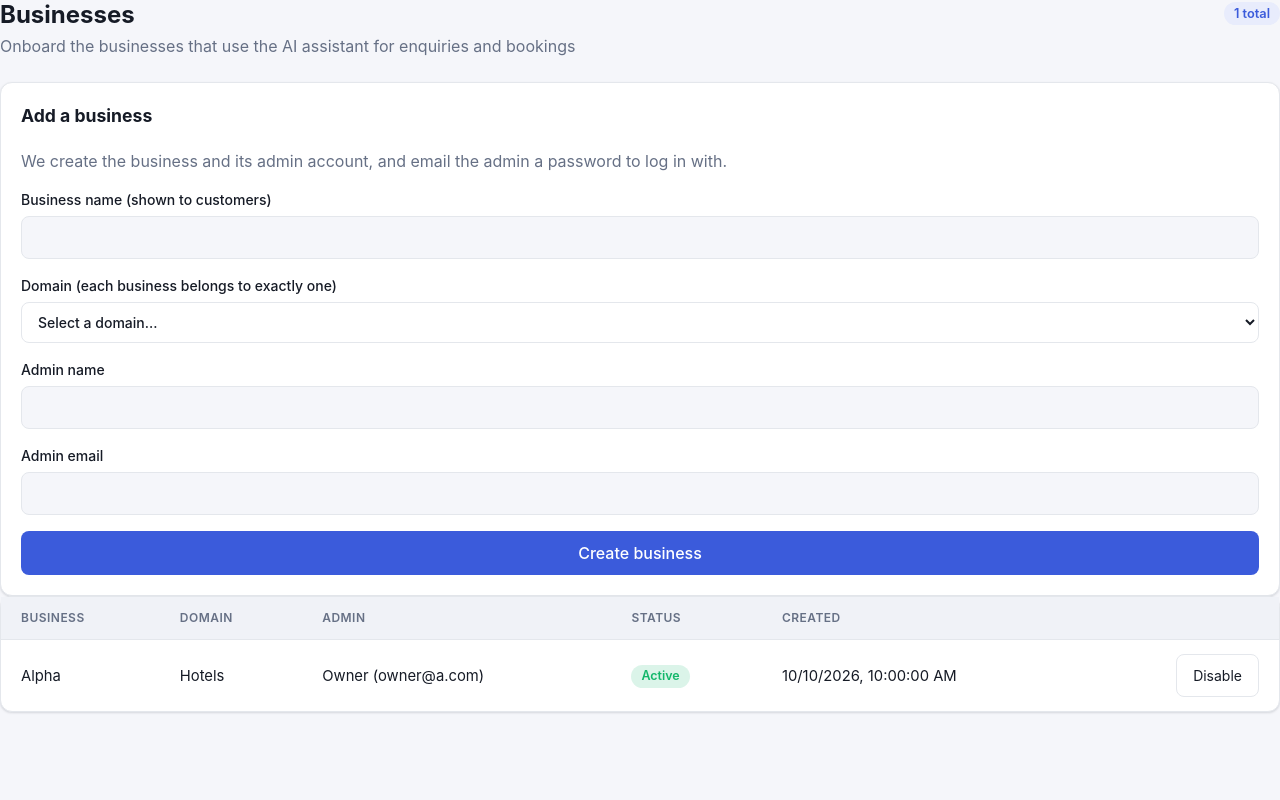
Test: BusinessesPage › creates a business with its admin and refreshes the list
Expected: the text "Alpha" is shown, x1=1 y1=640 x2=160 y2=711
Type "Beta" into the field labelled "Business name (shown to customers)" at (640, 238), box x1=21 y1=216 x2=1259 y2=259
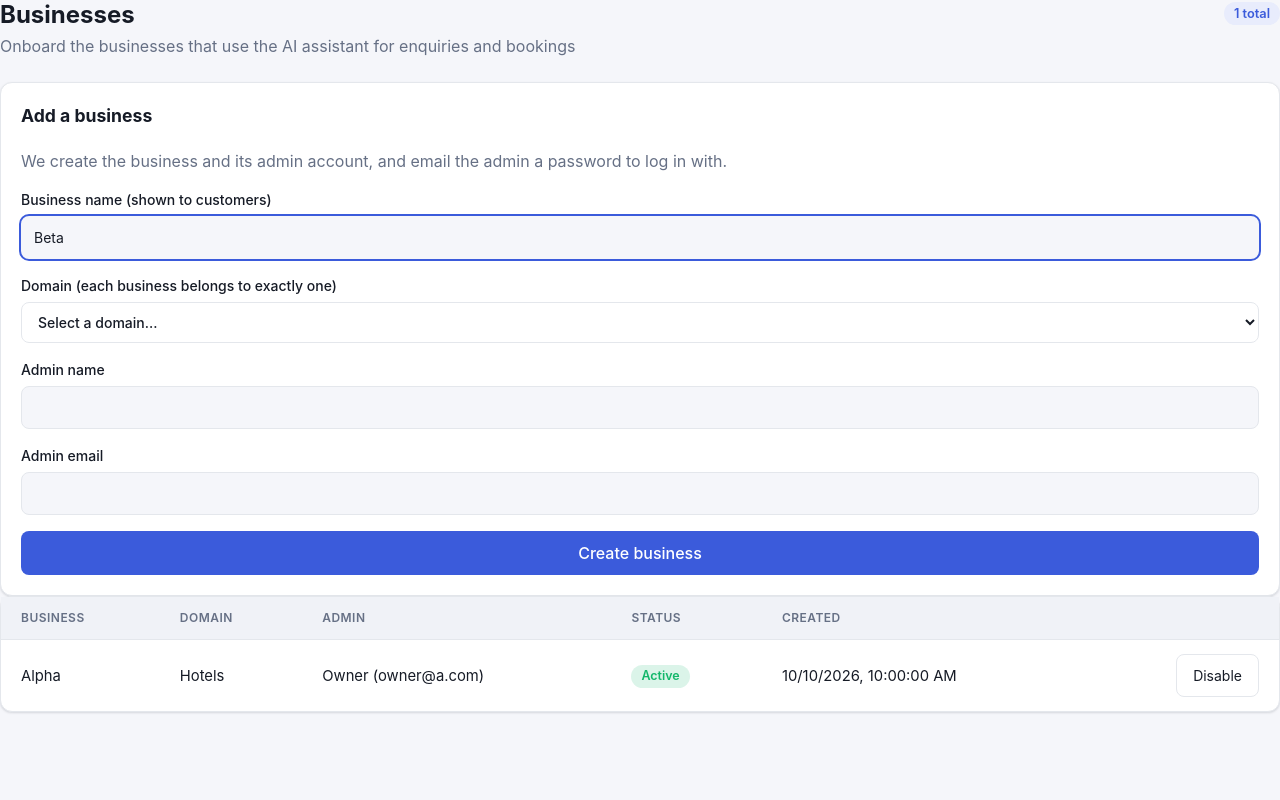
Select "Hotels" in the dropdown labelled "Domain (each business belongs to exactly one)" at (640, 323), box x1=21 y1=302 x2=1259 y2=343
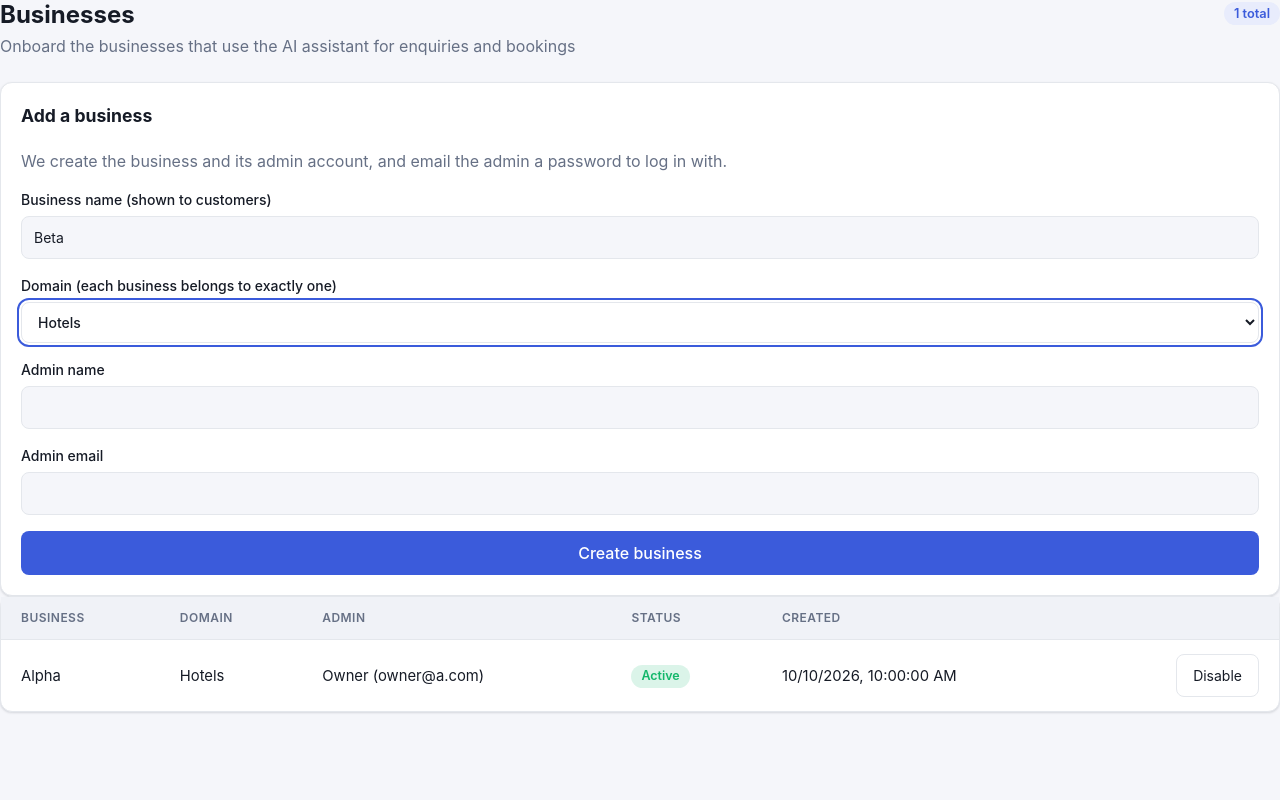
Type "Owner" into the field labelled "Admin name" at (640, 408), box x1=21 y1=386 x2=1259 y2=429
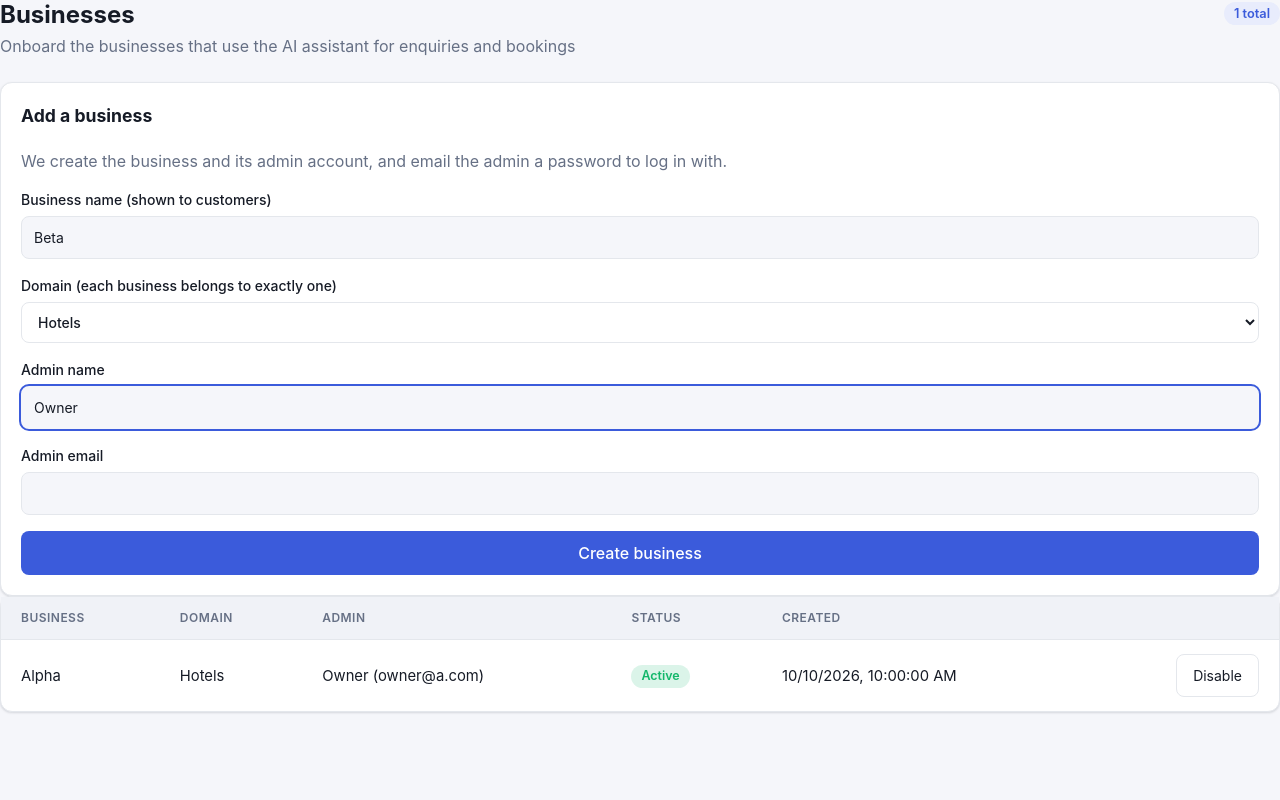
Type "owner@b.com" into the field labelled "Admin email" at (640, 494), box x1=21 y1=472 x2=1259 y2=515
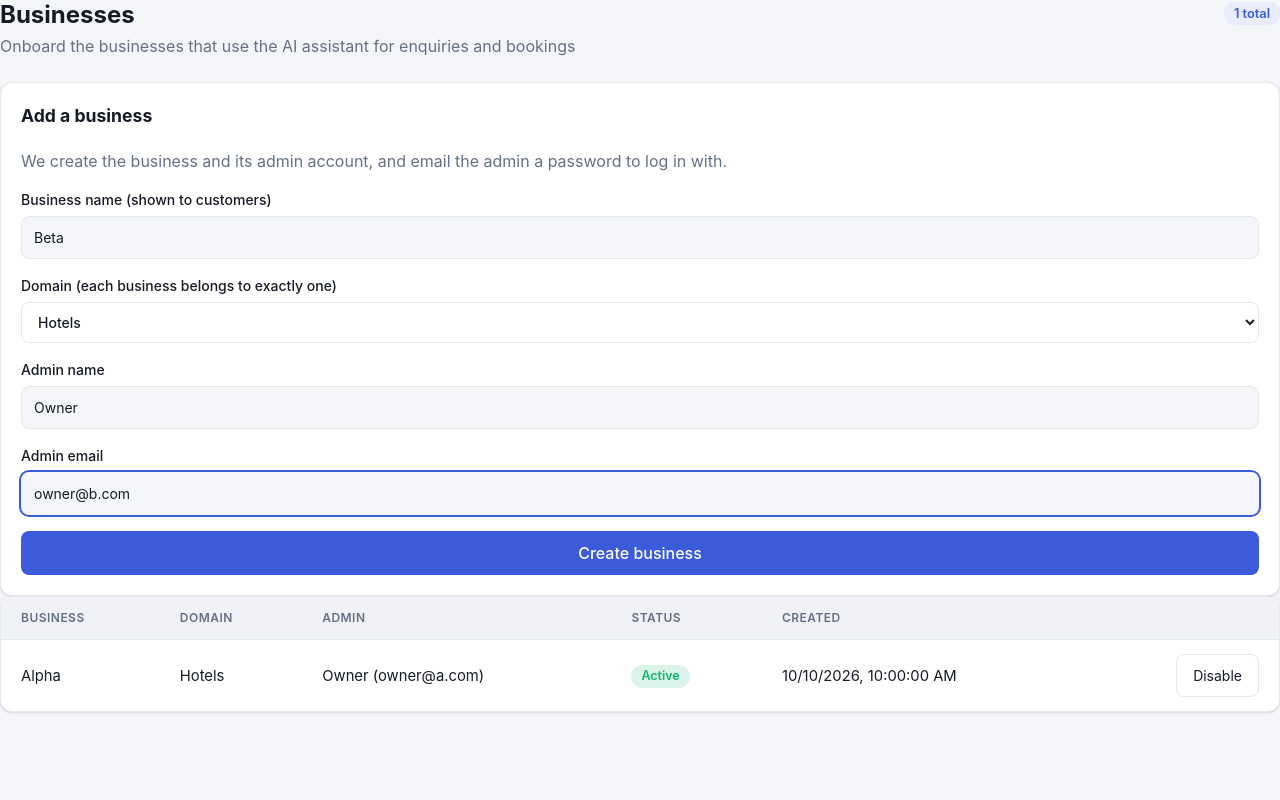
Click the button "Create business" at (640, 553), box x1=21 y1=531 x2=1259 y2=575
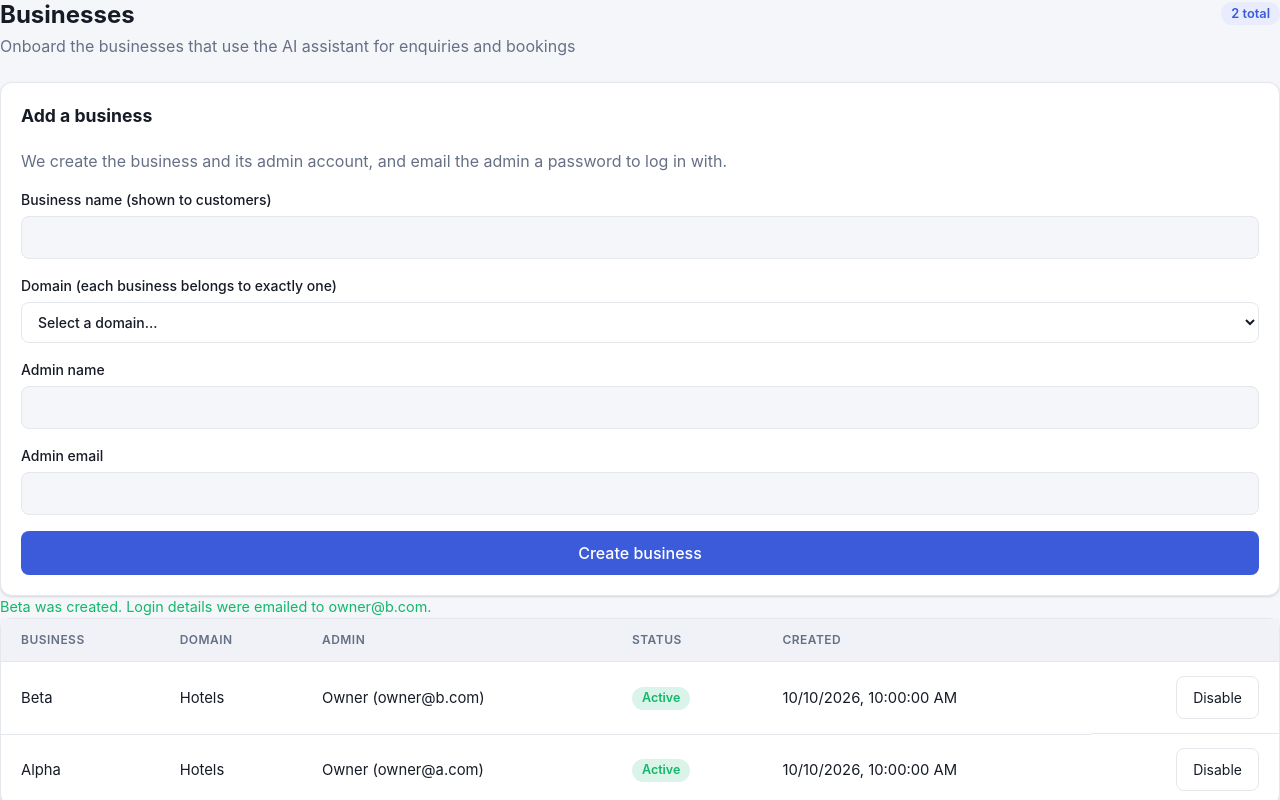
Expected: the message shows "Beta was created", x1=0 y1=598 x2=432 y2=615
Expected: the text "Beta" is shown, x1=1 y1=662 x2=160 y2=734
